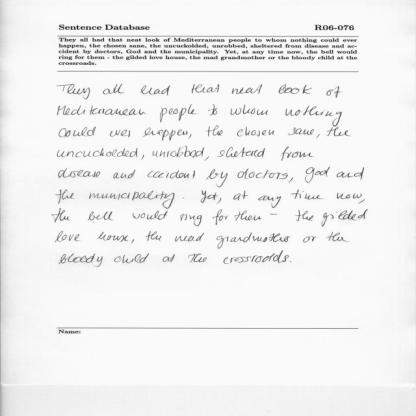Handwritten text: (50, 164, 370, 185), (50, 208, 375, 228), (54, 102, 356, 123), (52, 79, 351, 100), (51, 187, 372, 205), (50, 123, 366, 141), (48, 228, 361, 246), (47, 142, 324, 162), (56, 249, 295, 272)
